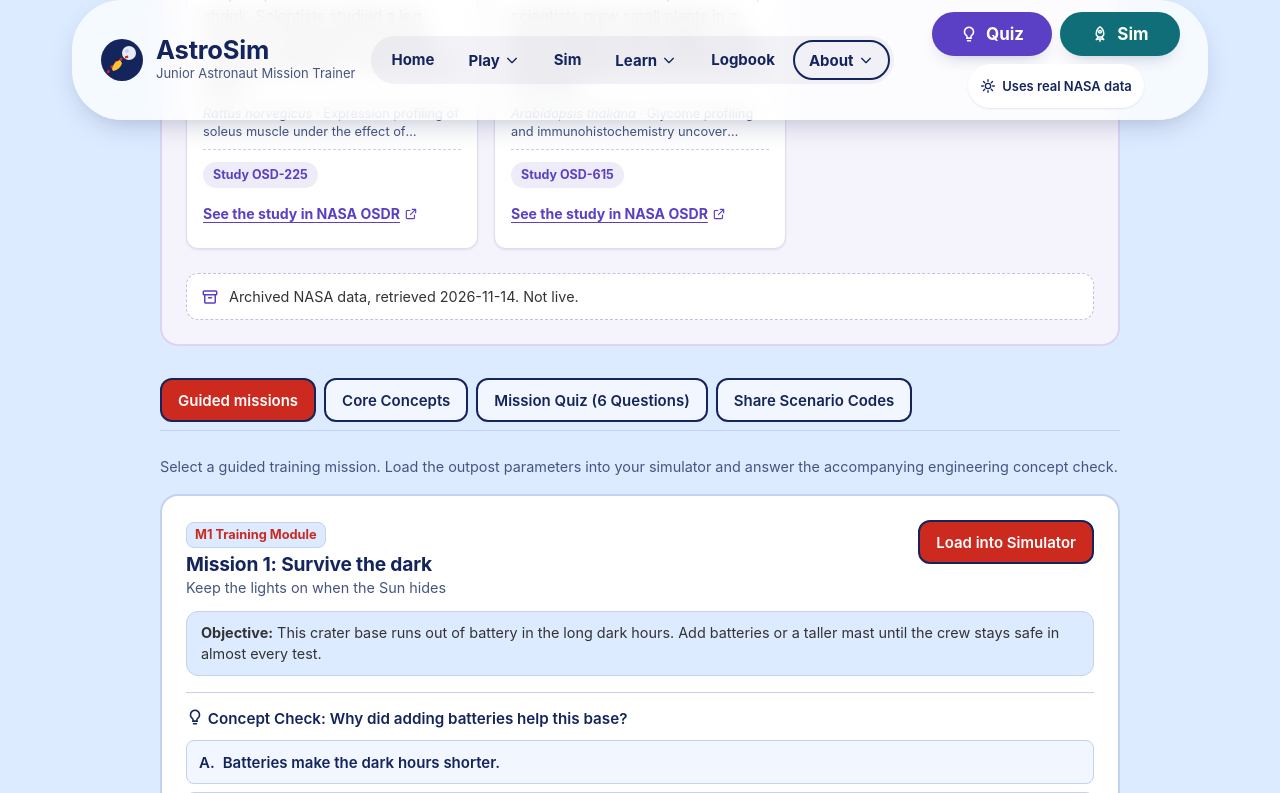
Test: Level 9 Verification: Accessibility, Contrast & Error States (Spec L9 AC1-AC3) › displays user-facing error alert when importing a corrupt scenario code (AC3)
(page scrolled)
Note: Click on Share tab
Click the tab "Share Scenario Codes": (814, 400) [716,378,912,422]
(page scrolled)
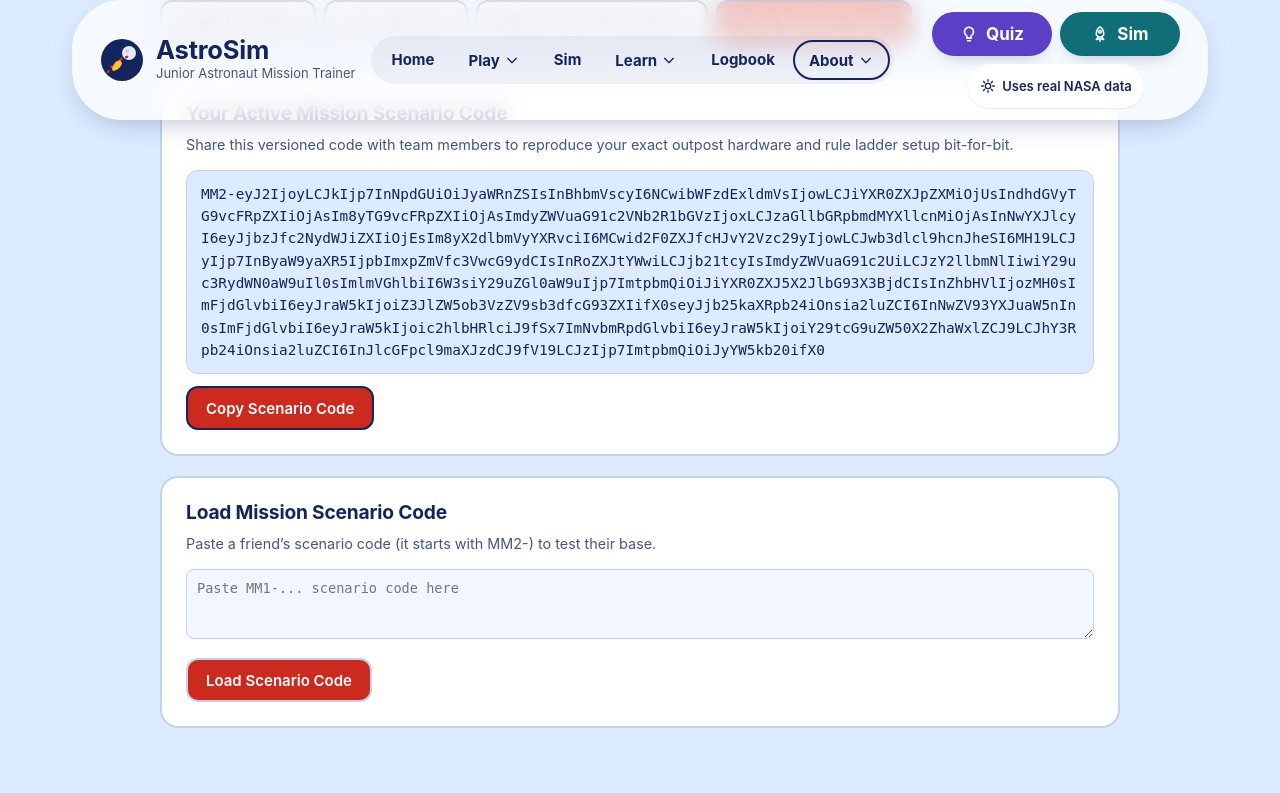
Note: Simulate invalid input
In the text box named "Mission scenario code input": (640, 604) [186,569,1094,639], type "CORRUPT-CODE-123"
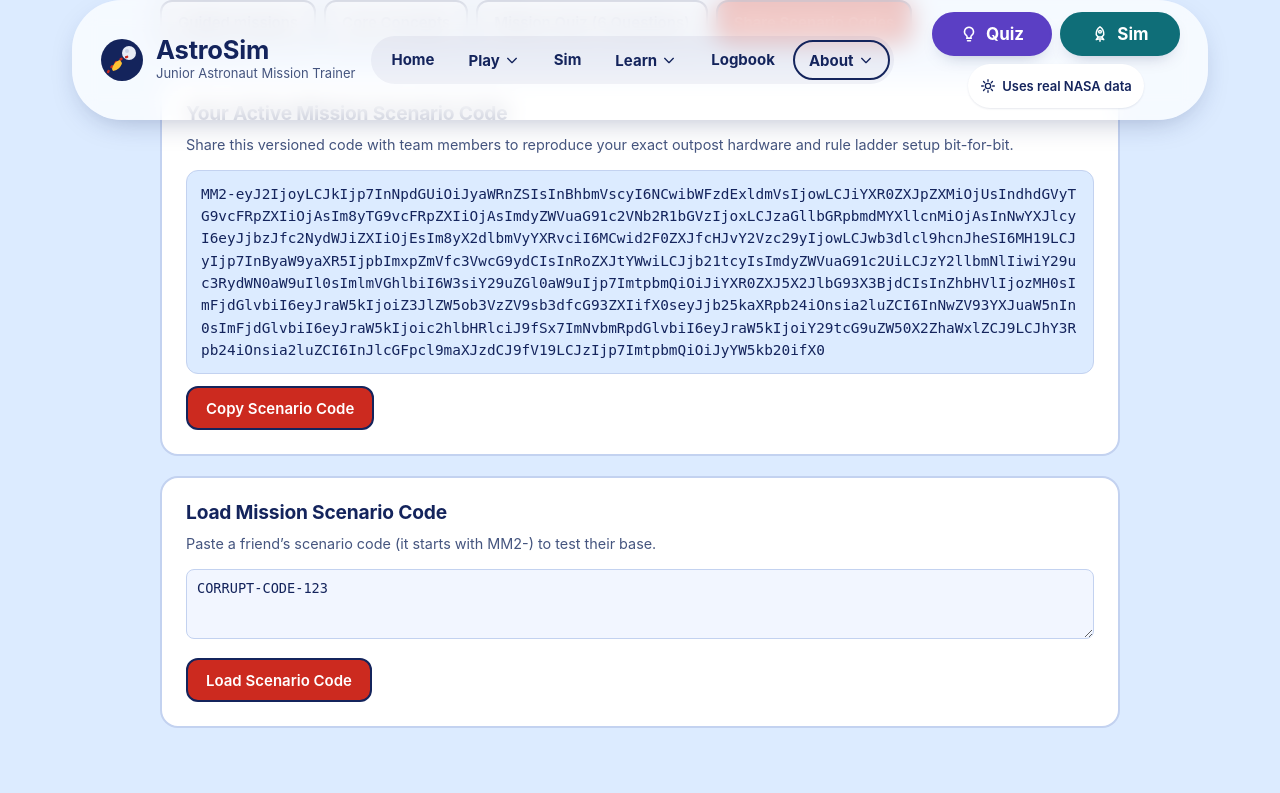
Click the button "Load Scenario Code": (279, 680) [186,658,372,702]
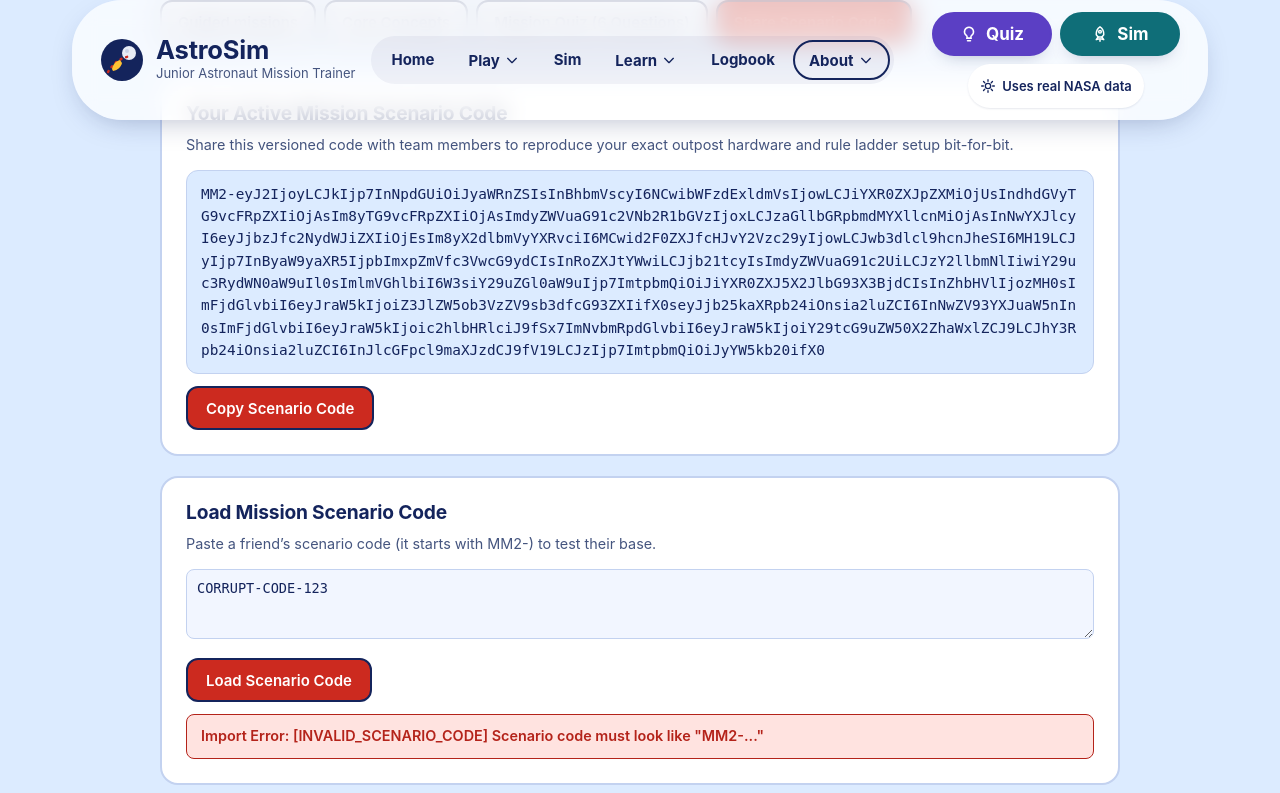
Expected: the message "Import Error: [INVALID_SCENARIO_CODE] Scenario code must look like \"MM2-...\"" is shown, [186,714,1094,758]
Expected: the message shows "Import Error", [201,727,764,744]
